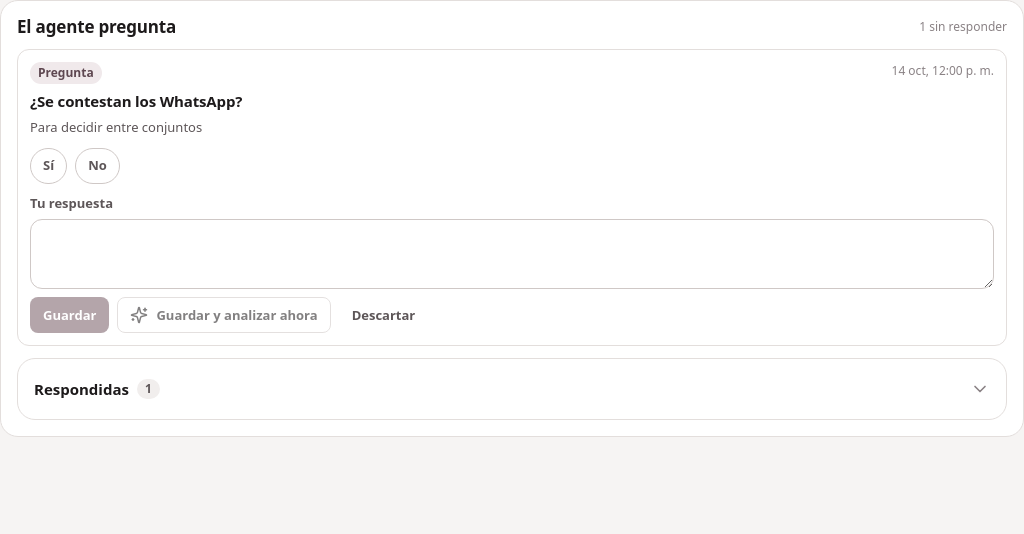
Scenario: Preguntas del agente › muestra las respondidas plegadas
Click the button "Respondidas 1": coordinates (81, 389) [18,359,1006,419]
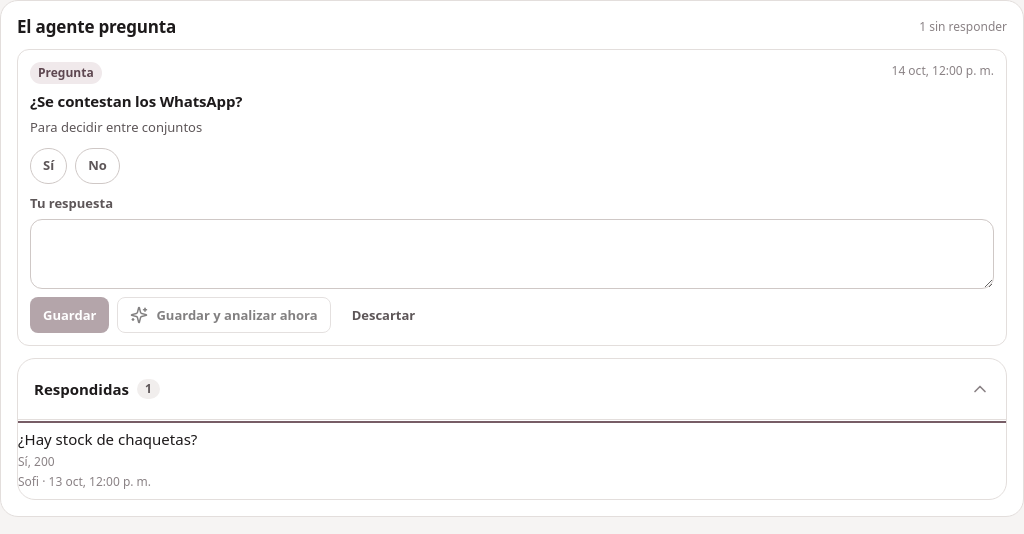
Expected: the text "Sí, 200" is shown, [18,453,55,470]
